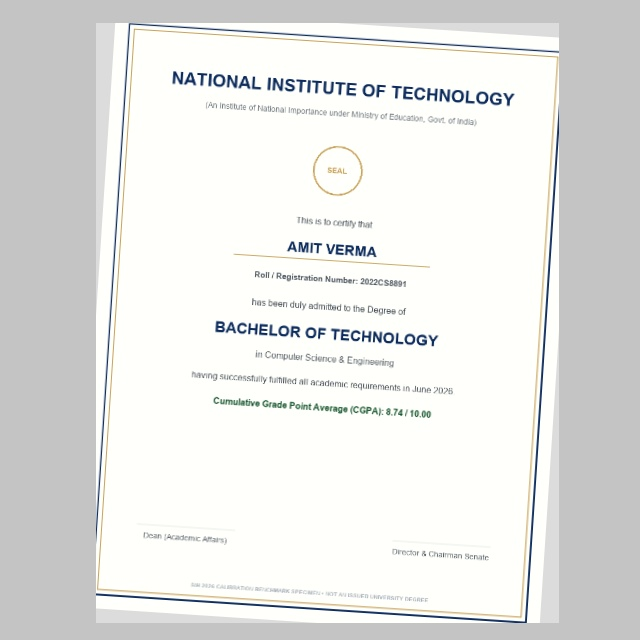marksheet: (96, 23, 559, 623)
